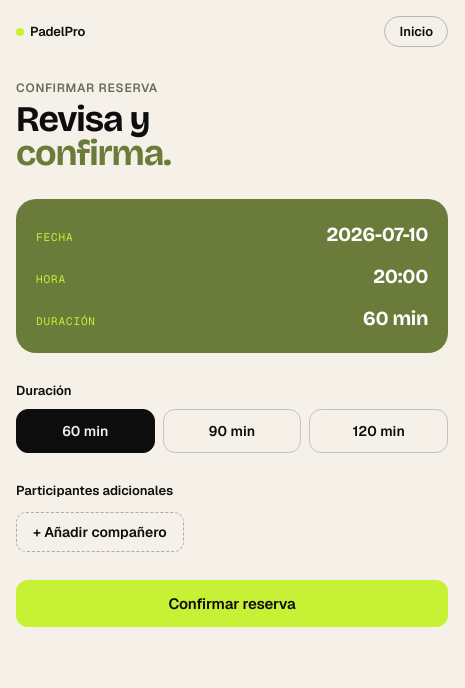
ConfirmarReservaPage (Grupo 5) › 5.5a — 422 PARTICIPANTS_LIMIT_EXCEEDED muestra mensaje de límite de participantes
Click the button "Confirmar reserva" at (232,604), box [16,580,448,627]
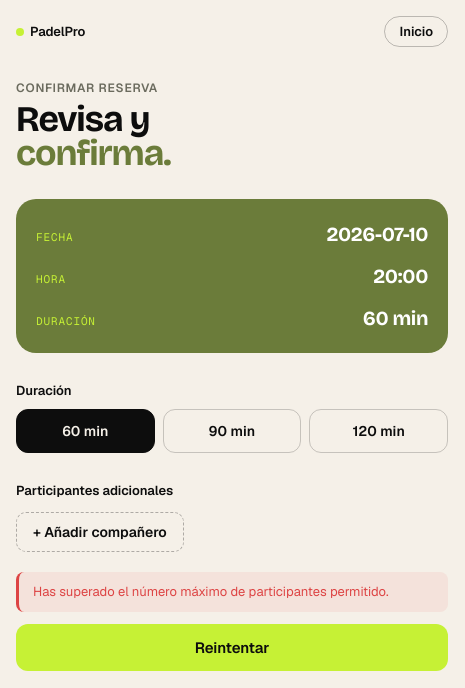
Expected: the text "Has superado el número máximo de participantes permitido." is shown, [16,572,448,612]
